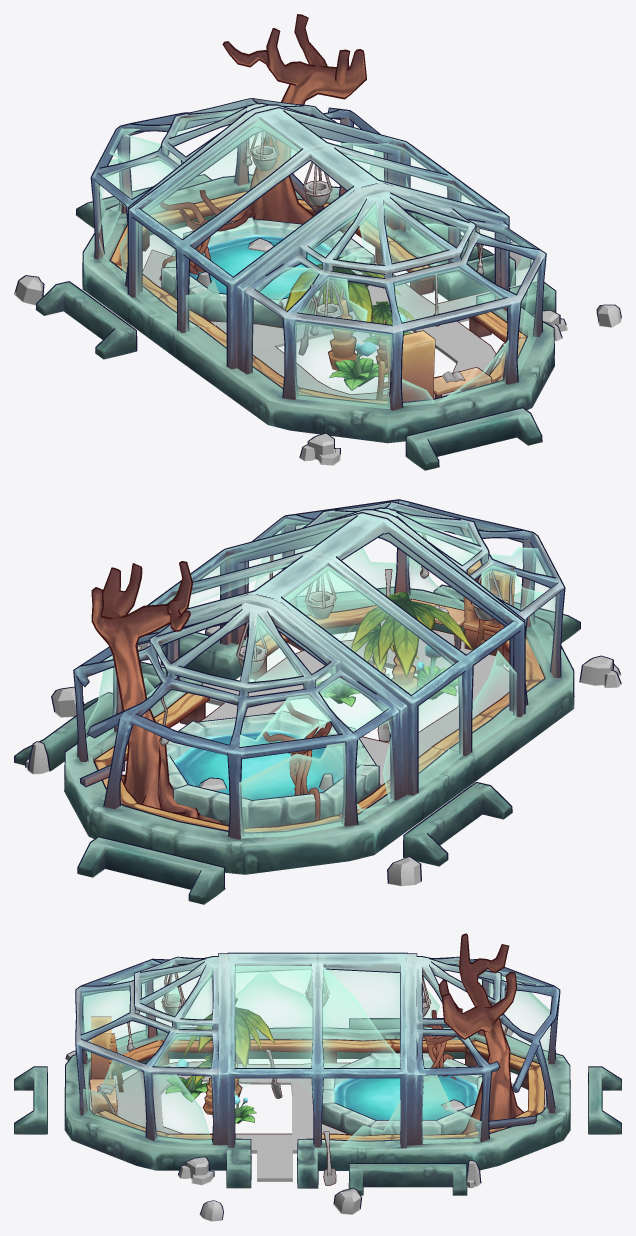
Rendered from CCollideOnly.gltf.
3 renders of one model, top to bottom at view 1: azimuth 30°, elevation 25°; view 2: azimuth 150°, elevation 25°; view 3: azimuth 270°, elevation 25°, orthographic. The views are drawn at different scales.
Parts seen in each view (by area): view 1: Cube.042, Cube.037, Cube.001, Cube.007_TT_checker_1_0.001, Cube.002, Cube.004, Circle.001, Circle, Cube.003, Cube.028_TT_checker_2_0.001, Cube.013, Cube.012 (+13 smaller); view 2: Cube.042, Cube.002, Cube.001, Cube.004, Circle, Circle.001, Cube.007_TT_checker_1_0.001, Cube.037, Cube.003, Cube.028_TT_checker_2_0.001, Cube.012, Cube.013 (+13 smaller); view 3: Cube.042, Cube.007_TT_checker_1_0.001, Cube.037, Cube.004, Cube.001, Cube.002, Circle, Cube.028_TT_checker_2_0.001, Circle.001, Cube.003, Cube.006, Cube.012 (+12 smaller).
Boxes of the visible parts, left/top/right/bottom form: Cube.042: left=95, top=110, right=539, bottom=408; Cube.037: left=243, top=191, right=546, bottom=410; Cube.001: left=127, top=107, right=509, bottom=369; Cube.007_TT_checker_1_0.001: left=174, top=255, right=555, bottom=443; Cube.002: left=90, top=98, right=387, bottom=286; Cube.004: left=82, top=174, right=448, bottom=356; Circle.001: left=222, top=14, right=366, bottom=232; Circle: left=161, top=216, right=374, bottom=327; Cube.003: left=128, top=104, right=509, bottom=371; Cube.028_TT_checker_2_0.001: left=142, top=250, right=499, bottom=399; Cube.013: left=76, top=174, right=542, bottom=470; Cube.012: left=35, top=212, right=493, bottom=359; Cube.042: left=85, top=508, right=559, bottom=838; Cube.002: left=73, top=603, right=404, bottom=839; Cube.001: left=113, top=512, right=525, bottom=795; Cube.004: left=64, top=682, right=474, bottom=874; Circle: left=166, top=711, right=379, bottom=827; Circle.001: left=91, top=561, right=222, bottom=823; Cube.007_TT_checker_1_0.001: left=140, top=588, right=574, bottom=781; Cube.037: left=245, top=499, right=565, bottom=705; Cube.003: left=121, top=509, right=524, bottom=797; Cube.028_TT_checker_2_0.001: left=201, top=630, right=509, bottom=786; Cube.012: left=14, top=692, right=512, bottom=866; Cube.013: left=77, top=584, right=580, bottom=904; Cube.042: left=81, top=961, right=550, bottom=1148; Cube.007_TT_checker_1_0.001: left=64, top=1028, right=318, bottom=1188; Cube.037: left=75, top=956, right=218, bottom=1144; Cube.004: left=318, top=1026, right=570, bottom=1170; Cube.001: left=228, top=952, right=407, bottom=1148; Cube.002: left=416, top=956, right=560, bottom=1144; Circle: left=322, top=1052, right=482, bottom=1135; Cube.028_TT_checker_2_0.001: left=89, top=1062, right=513, bottom=1181; Circle.001: left=438, top=933, right=523, bottom=1133; Cube.003: left=218, top=953, right=417, bottom=1145; Cube.006: left=322, top=1039, right=544, bottom=1140; Cube.012: left=348, top=1018, right=467, bottom=1195.
Size of the model in its own units: 15.44 by 7.92 by 21.25.
